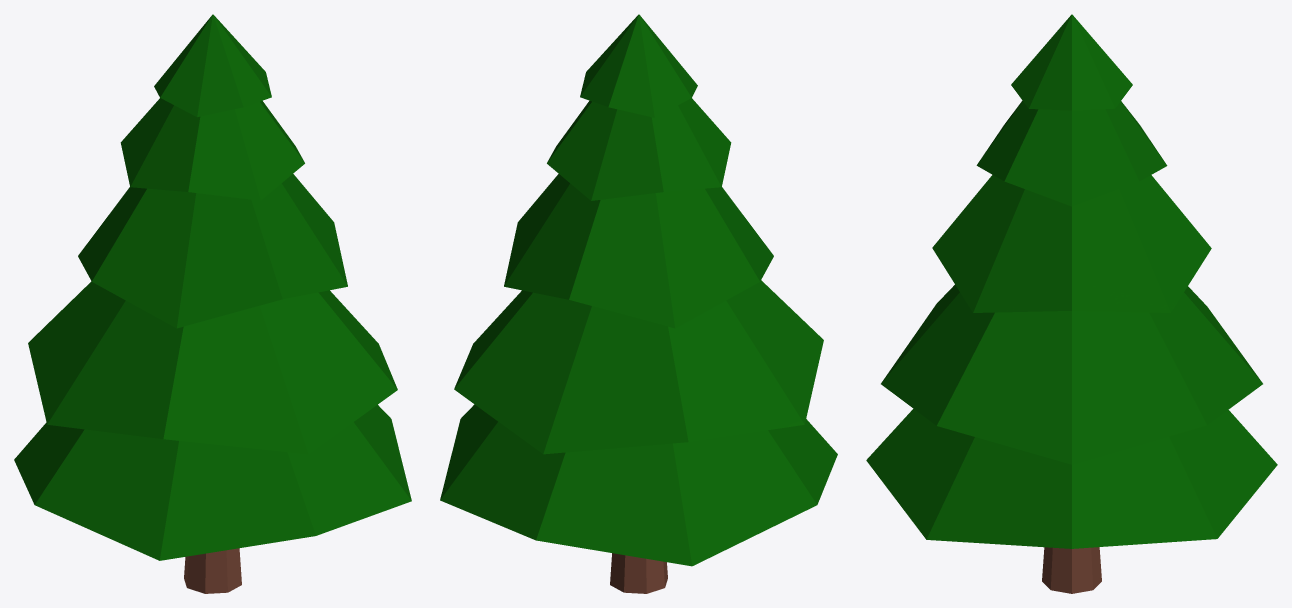
File: Pine_01.fbx
3 views of the same model, side by side, from view 1: azimuth 30°, elevation 25°; view 2: azimuth 150°, elevation 25°; view 3: azimuth 270°, elevation 25° (orthographic).
Visible parts, largest first — view 1: Pine_Tree_01; view 2: Pine_Tree_01; view 3: Pine_Tree_01.
Part boxes in pixels (x1=…): Pine_Tree_01: x1=14, y1=14, x2=411, y2=593; Pine_Tree_01: x1=440, y1=14, x2=837, y2=593; Pine_Tree_01: x1=866, y1=14, x2=1277, y2=593.
Size of the model in its own units: 1.74 by 2.65 by 1.74.
1 material, 1 textured.
